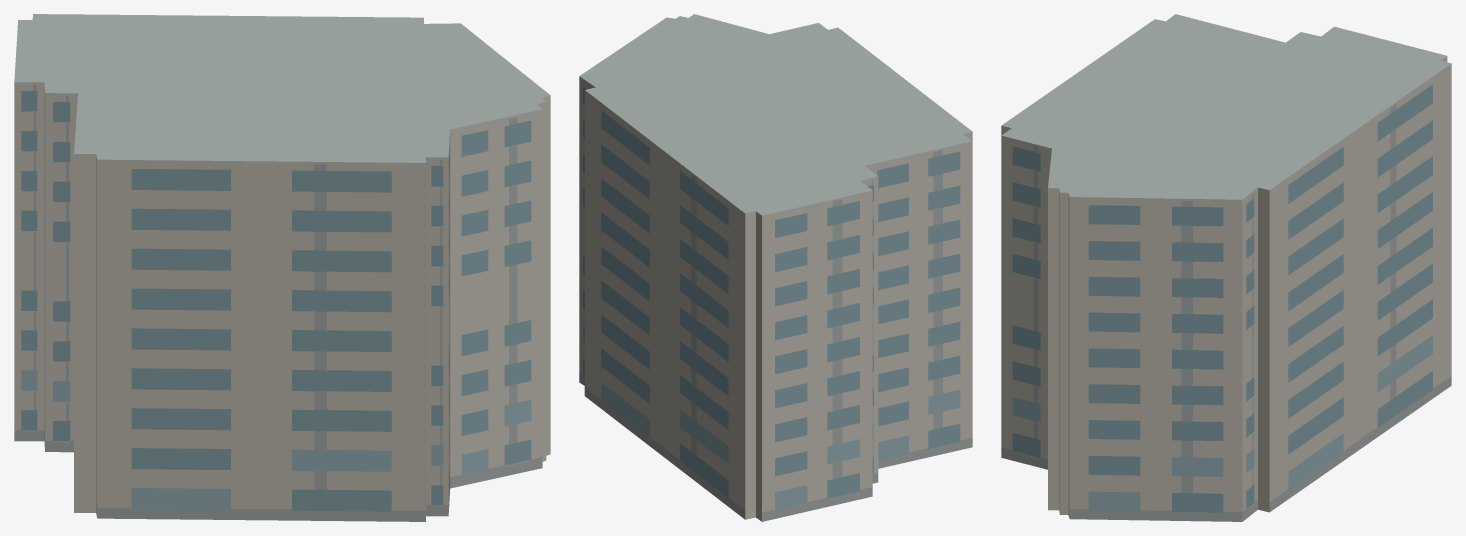
File: survey-upis-32772213.glb
3 views of the same model, side by side, from view 1: azimuth 30°, elevation 25°; view 2: azimuth 150°, elevation 25°; view 3: azimuth 270°, elevation 25° (orthographic). The views are drawn at different scales.
Parts seen in each view (by area): view 1: survey-upis-32772213.tmp; view 2: survey-upis-32772213.tmp; view 3: survey-upis-32772213.tmp.
Boxes of the visible parts, box(x1,y1,x2,y2) form: survey-upis-32772213.tmp: box(14, 14, 550, 521); survey-upis-32772213.tmp: box(579, 14, 972, 521); survey-upis-32772213.tmp: box(1001, 14, 1451, 521).
Size of the model in its own units: 45.5 by 36.8 by 46.62.
